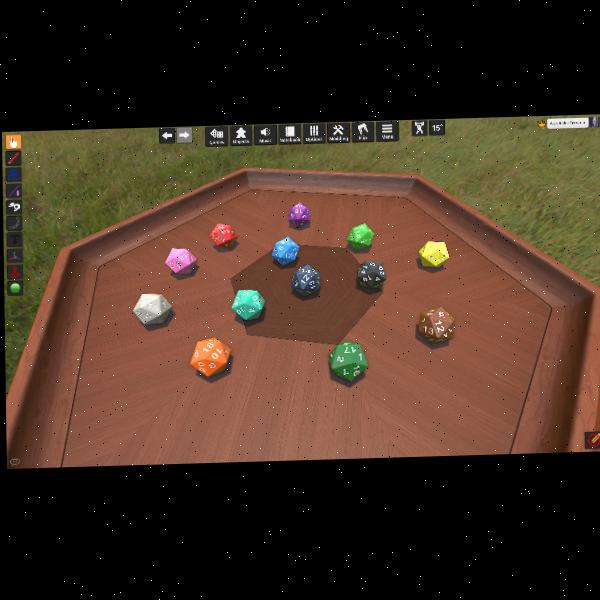d20: (191, 337, 232, 377), (329, 340, 366, 382), (417, 305, 455, 343), (134, 291, 173, 324), (231, 288, 266, 320), (166, 246, 198, 275), (290, 265, 319, 296), (272, 236, 300, 266), (418, 239, 448, 267), (356, 260, 384, 289), (346, 223, 373, 250), (210, 223, 237, 248), (289, 202, 310, 227)
